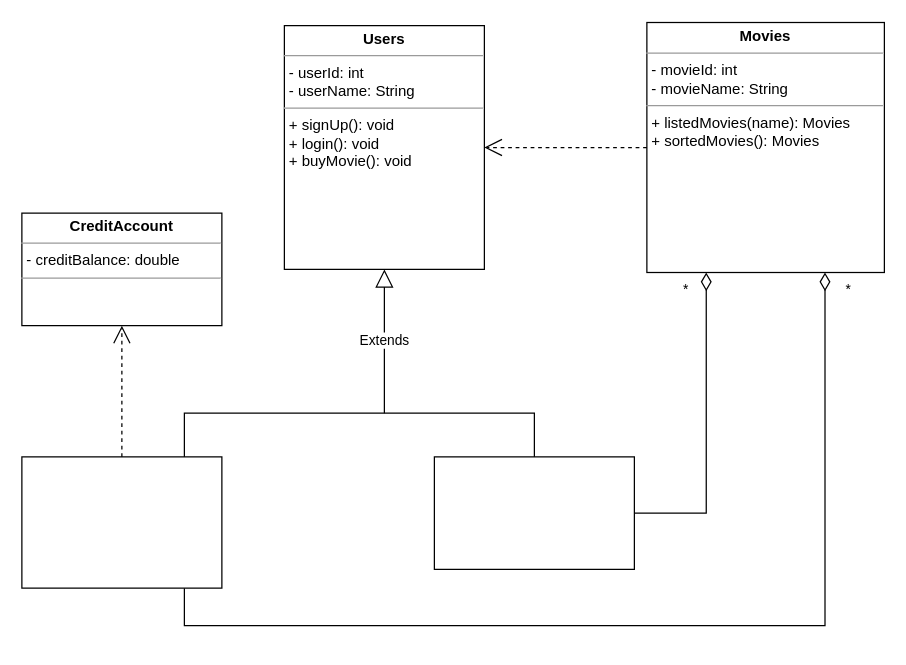
Image size: 906x665. Some labels were removed from this diagram. The centre of each missing label's shape, as x and y in pixels:
RegularUser: point 533,512
SubscribedUser + buyCredit(): void + balanceCheck(): dobule + rentMovies: point 121,522
